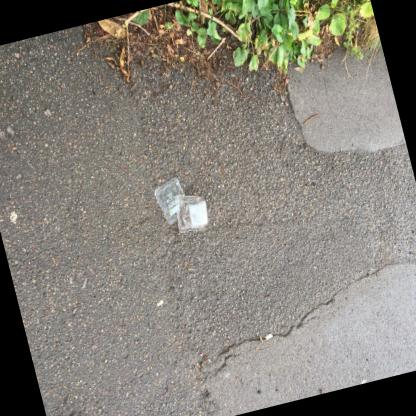Paper: (263, 333, 272, 340)
Plastic: (154, 178, 184, 225)
Waste: (174, 195, 207, 232)
